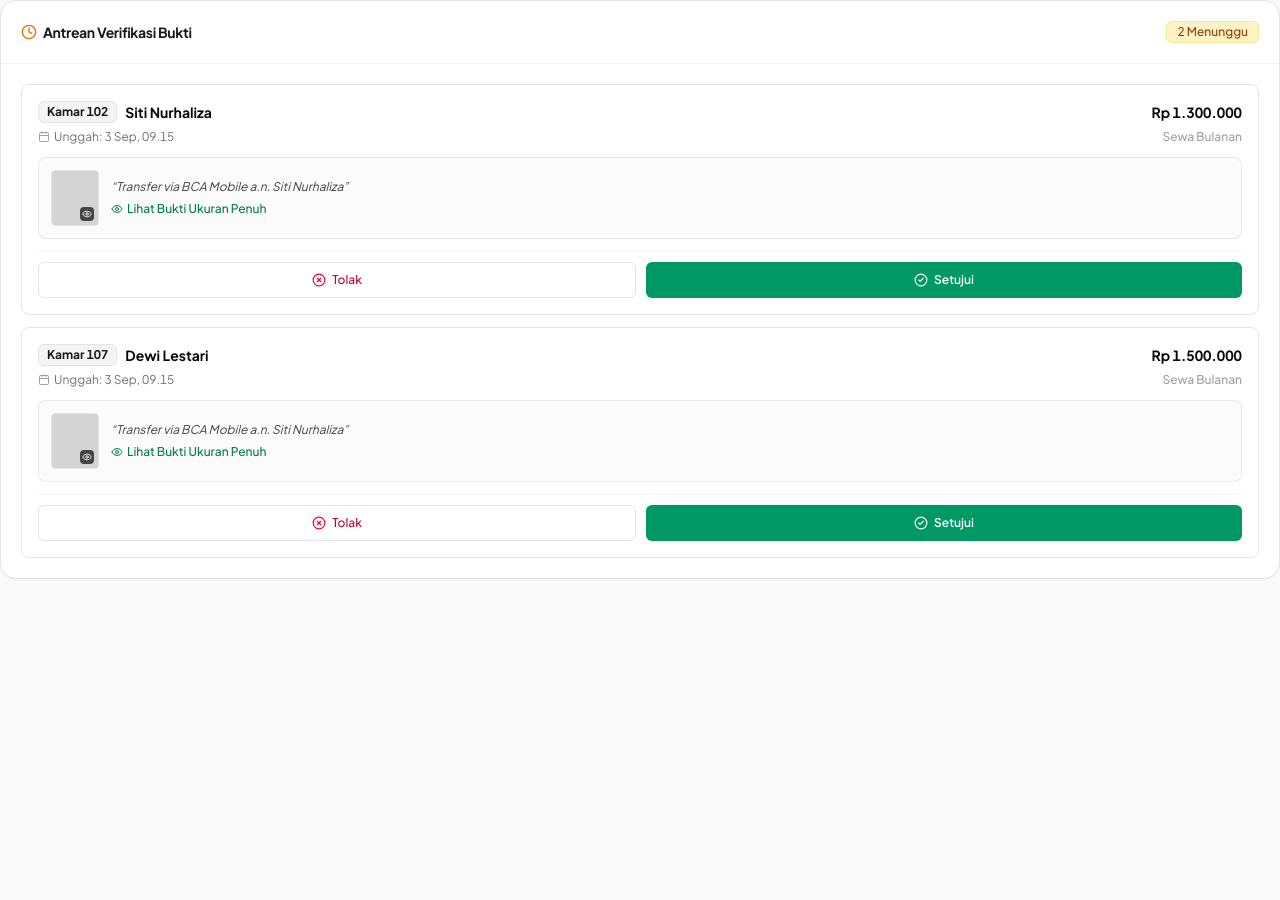
Test: Alur Terintegrasi Bukti Transfer & Verifikasi Tagihan (Issue 06) › 2. Pemilik Kost melihat antrean verifikasi, membuka Lightbox zoomable, dan menyetujui pembayaran -> LUNAS
Expected: the text "Antrean Verifikasi Bukti" is shown, [43,22,192,42]
Expected: the text "Kamar 102" is shown, [38,101,117,123]
Note: Buka Lightbox pembesaran foto
Click the button "Lihat Bukti Ukuran Penuh" below "102": {"x": 189, "y": 209} [111,201,266,217]
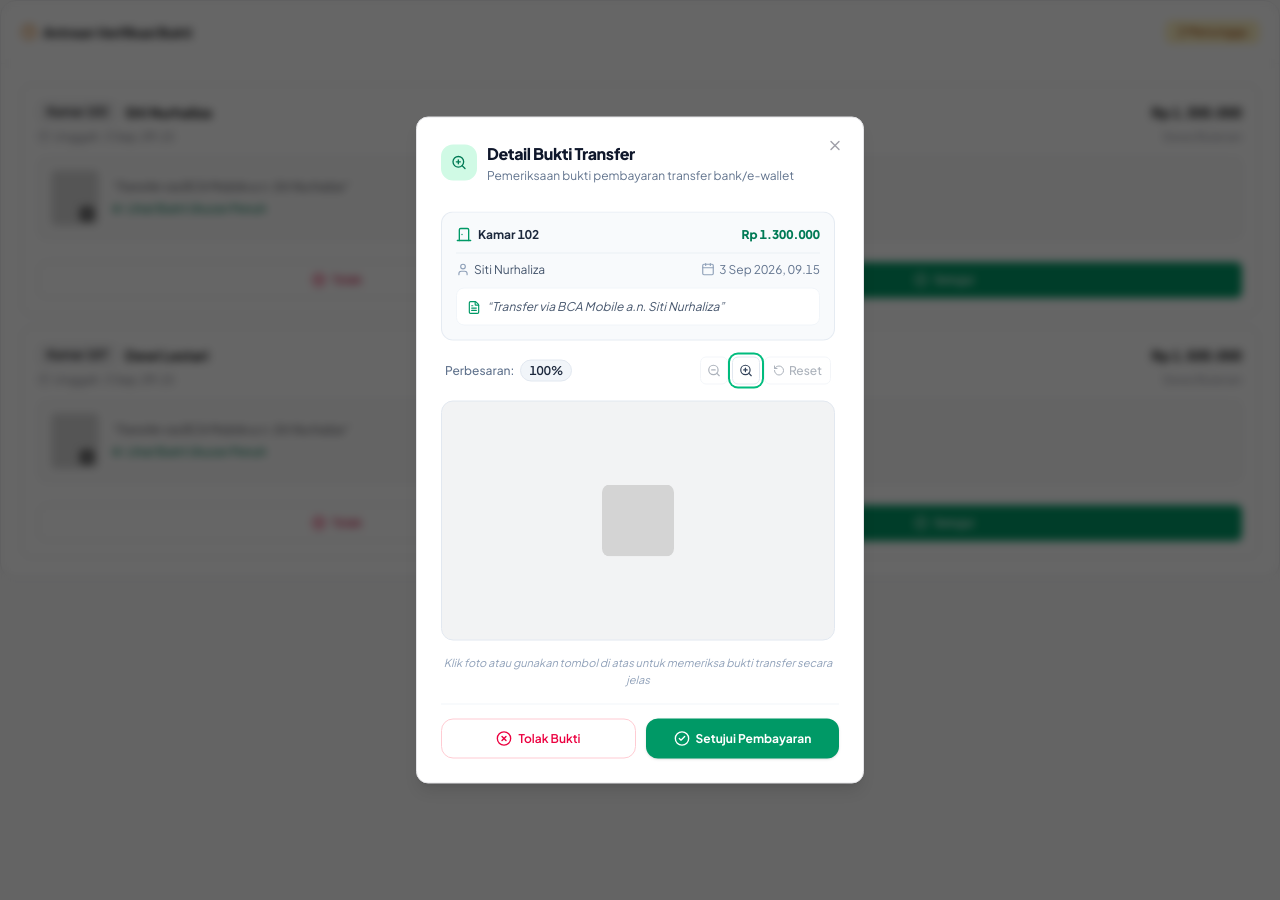
Result: the heading "Detail Bukti Transfer" is shown at [487,142,635,164]
Result: the text with test id "zoom-scale-indicator" reads "100%" at [520,360,572,382]
Note: Uji kontrol zoom di Lightbox
Click the button named "Perbesar foto": {"x": 746, "y": 370} [732,356,760,384]
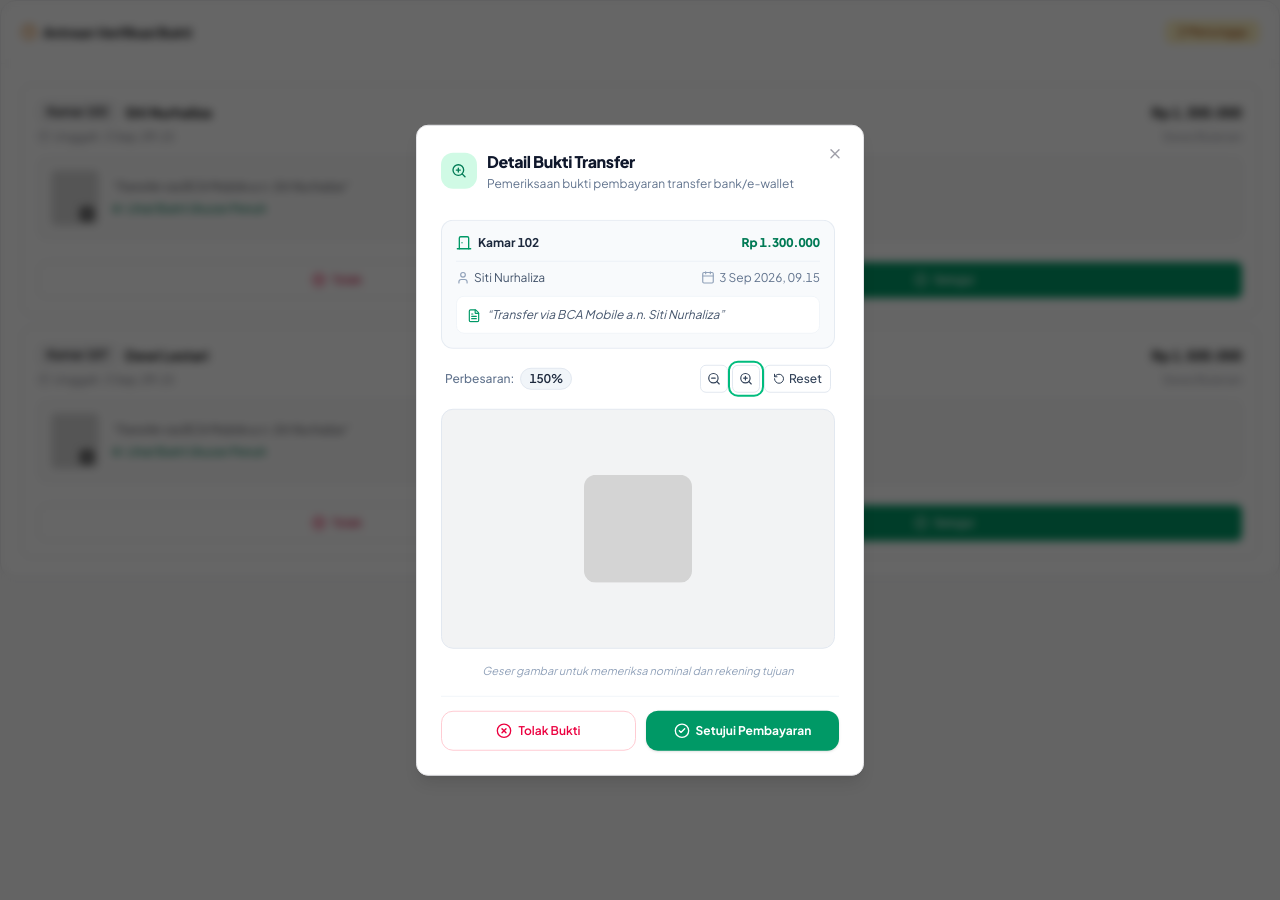
Result: the text with test id "zoom-scale-indicator" reads "150%" at [520,368,572,390]
Click the button with aria-label "Reset zoom": {"x": 798, "y": 379} [764,365,831,393]
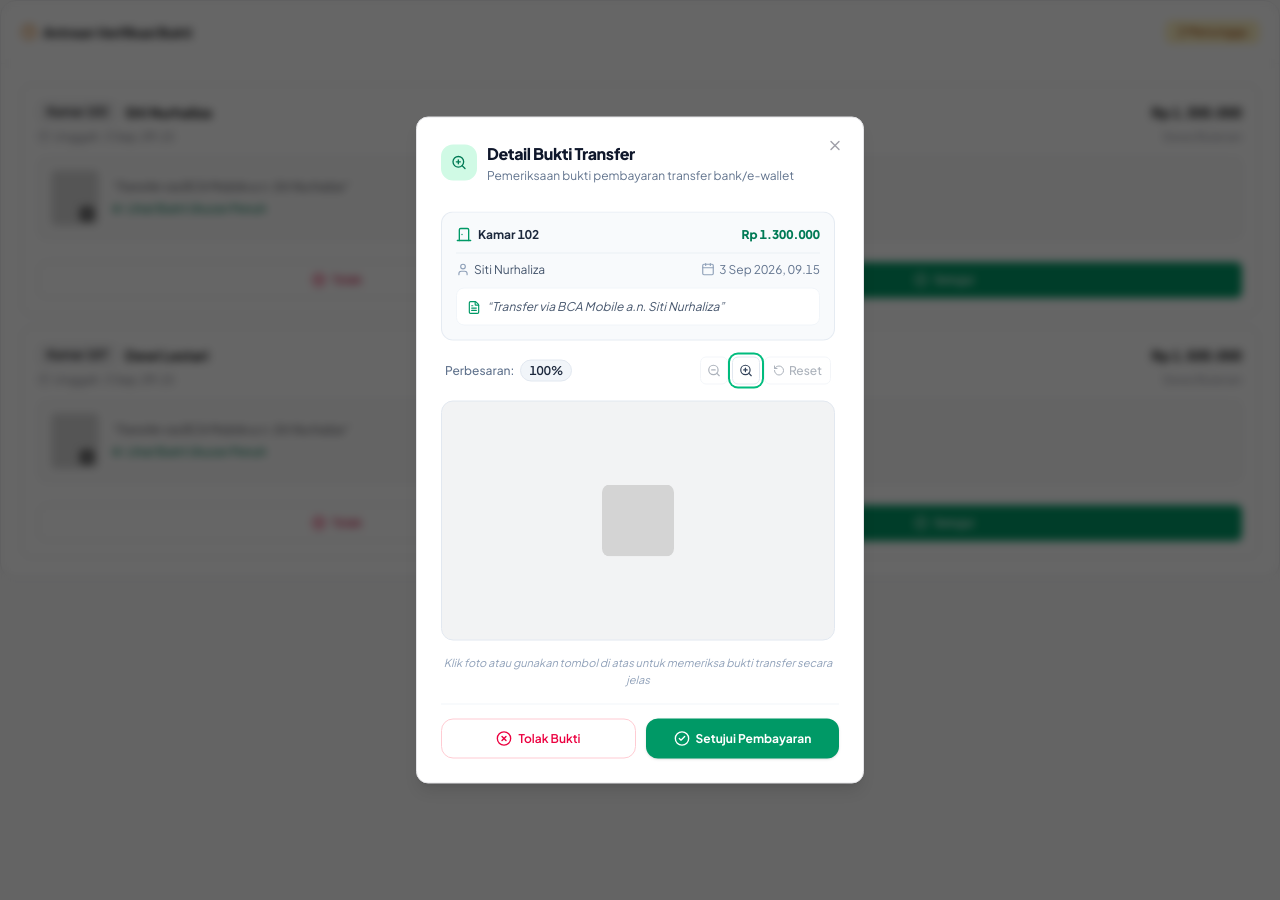
Result: the text with test id "zoom-scale-indicator" reads "100%" at [520,360,572,382]
Note: Setujui pembayaran langsung dari antrean
Click the button "Setujui Pembayaran": {"x": 742, "y": 738} [646,718,839,758]
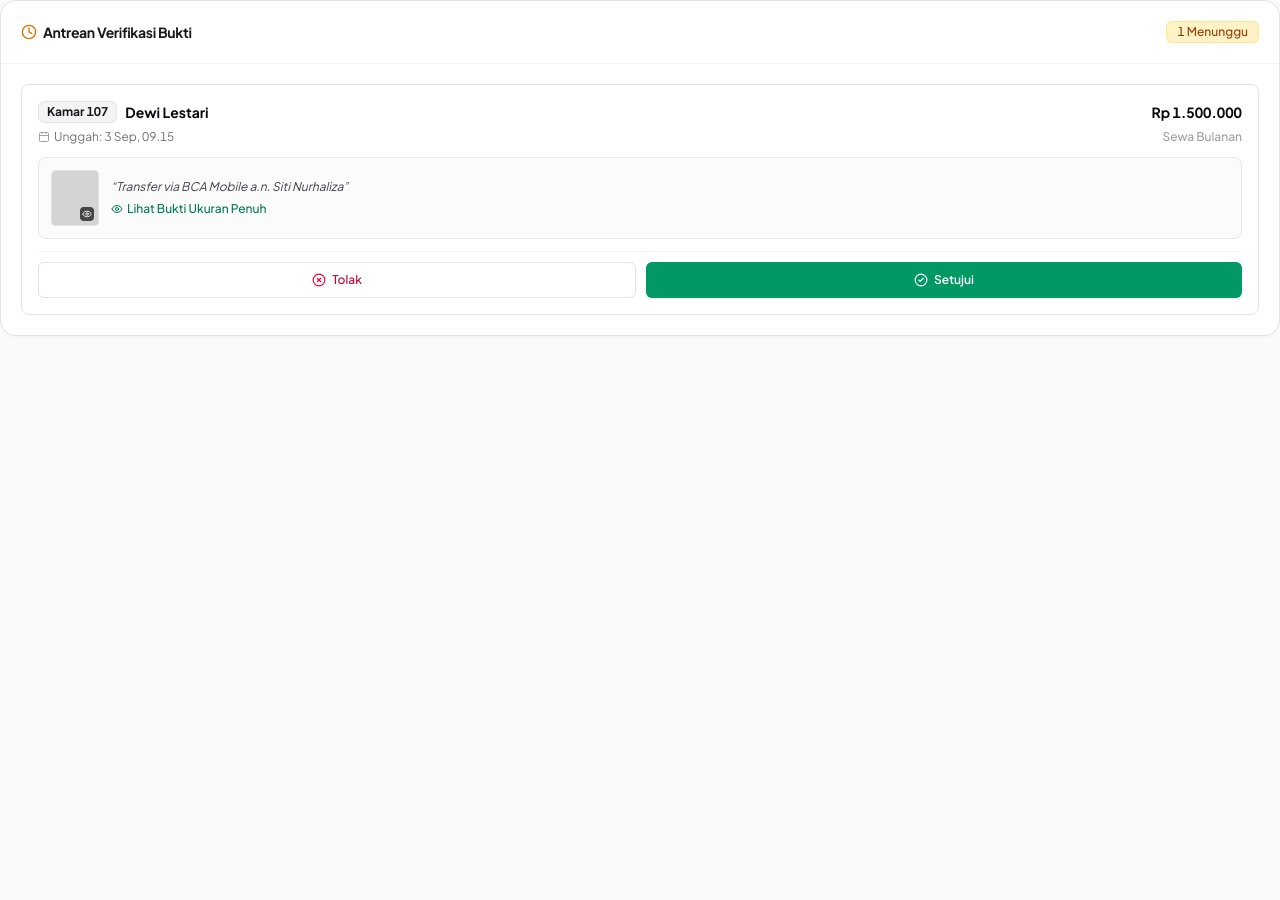
Result: the text "Kamar 102" is gone
